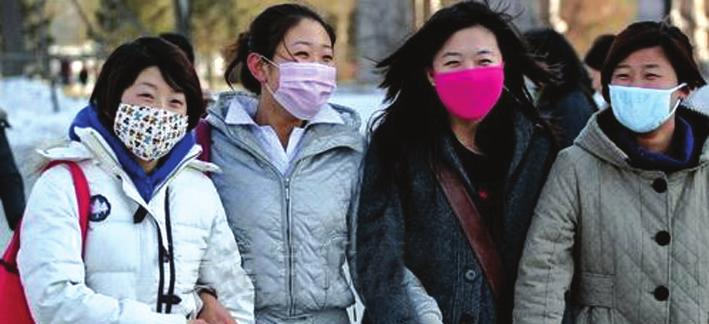face_mask: (434, 27, 508, 118), (116, 74, 190, 158), (275, 22, 337, 119), (611, 51, 672, 133)
